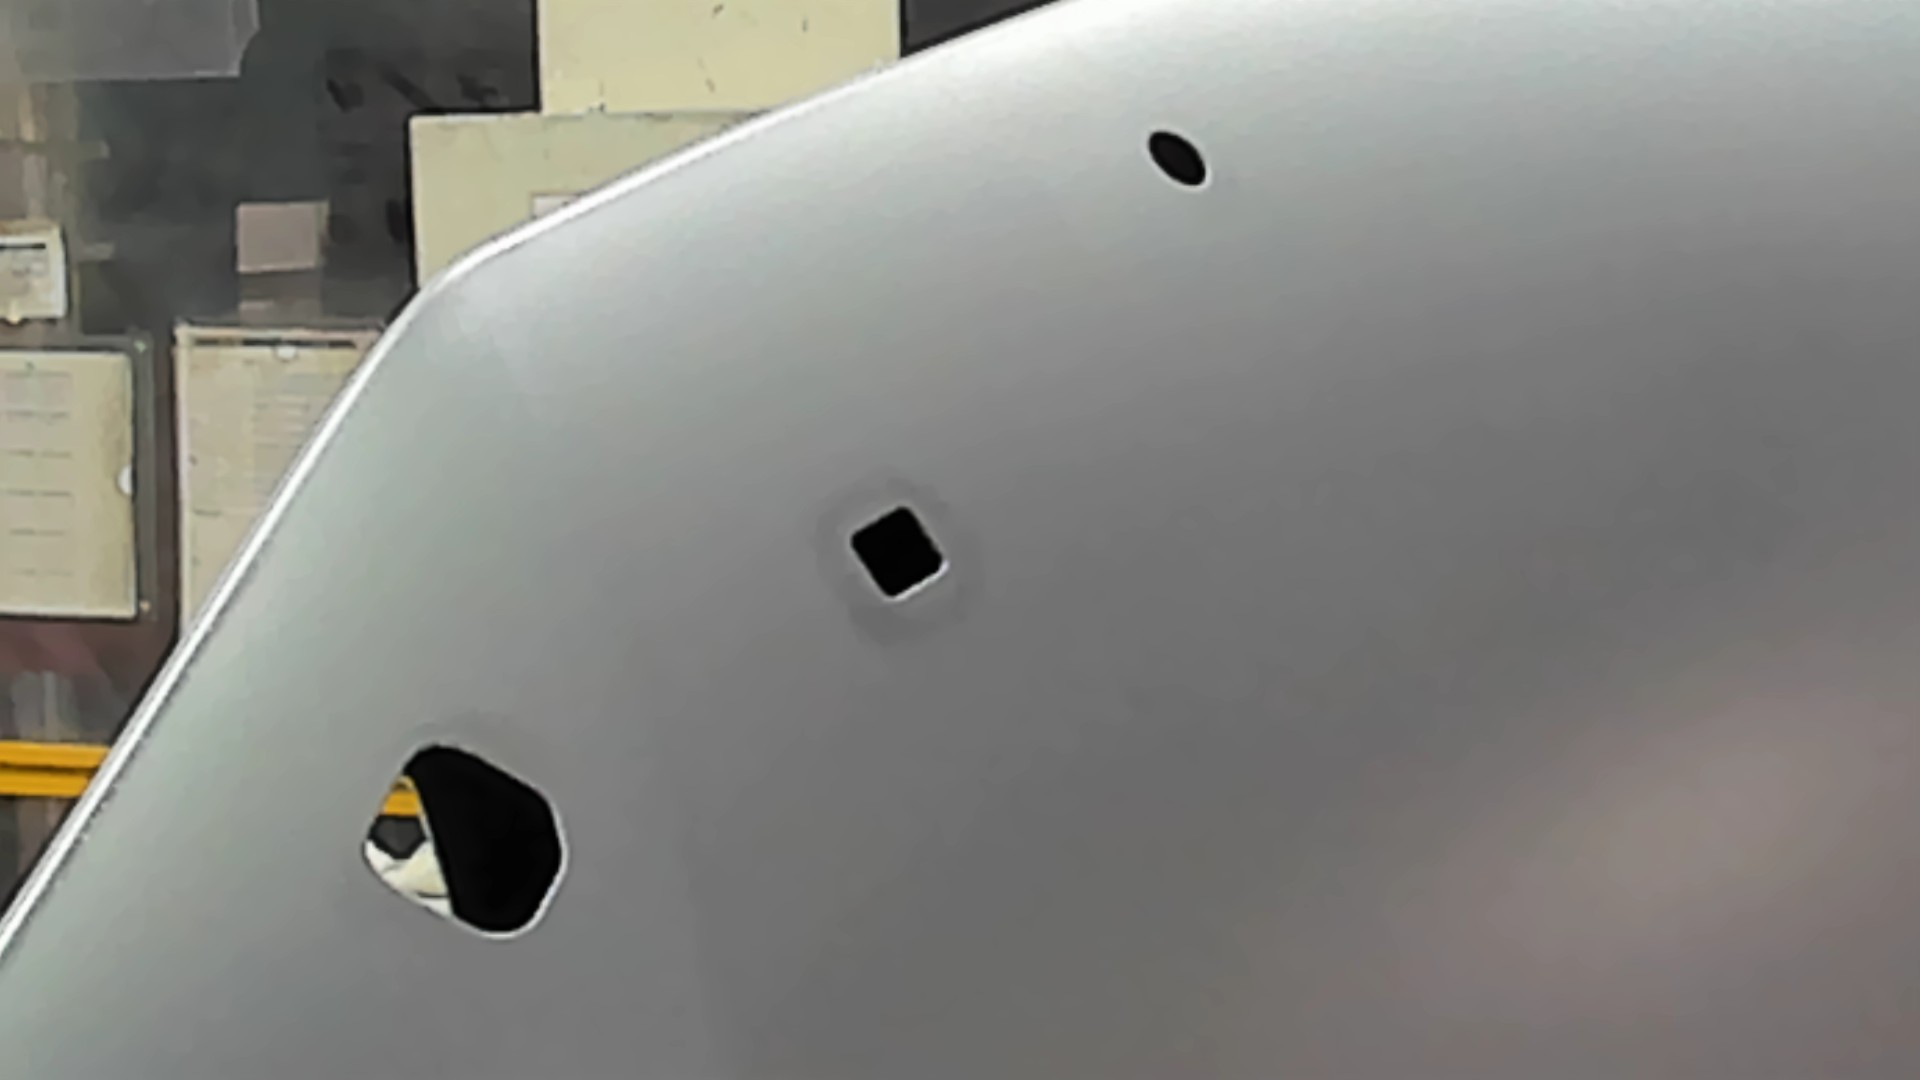chico: (1143, 123, 1213, 190)
grande: (349, 736, 572, 944)
mediano: (839, 496, 957, 607)
